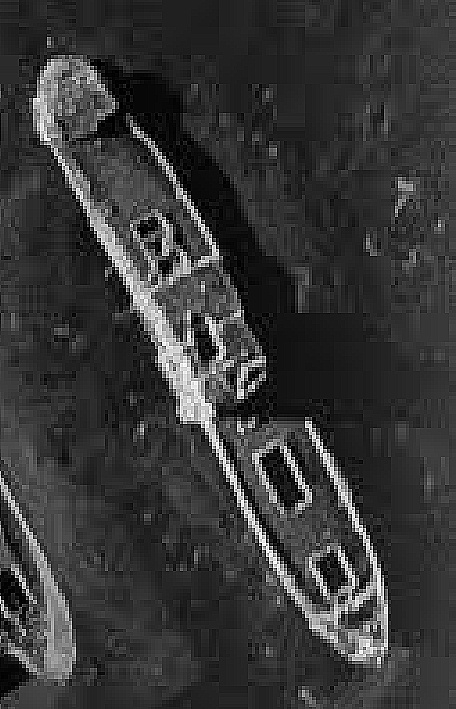ship: (35, 46, 391, 666), (1, 472, 79, 687)
